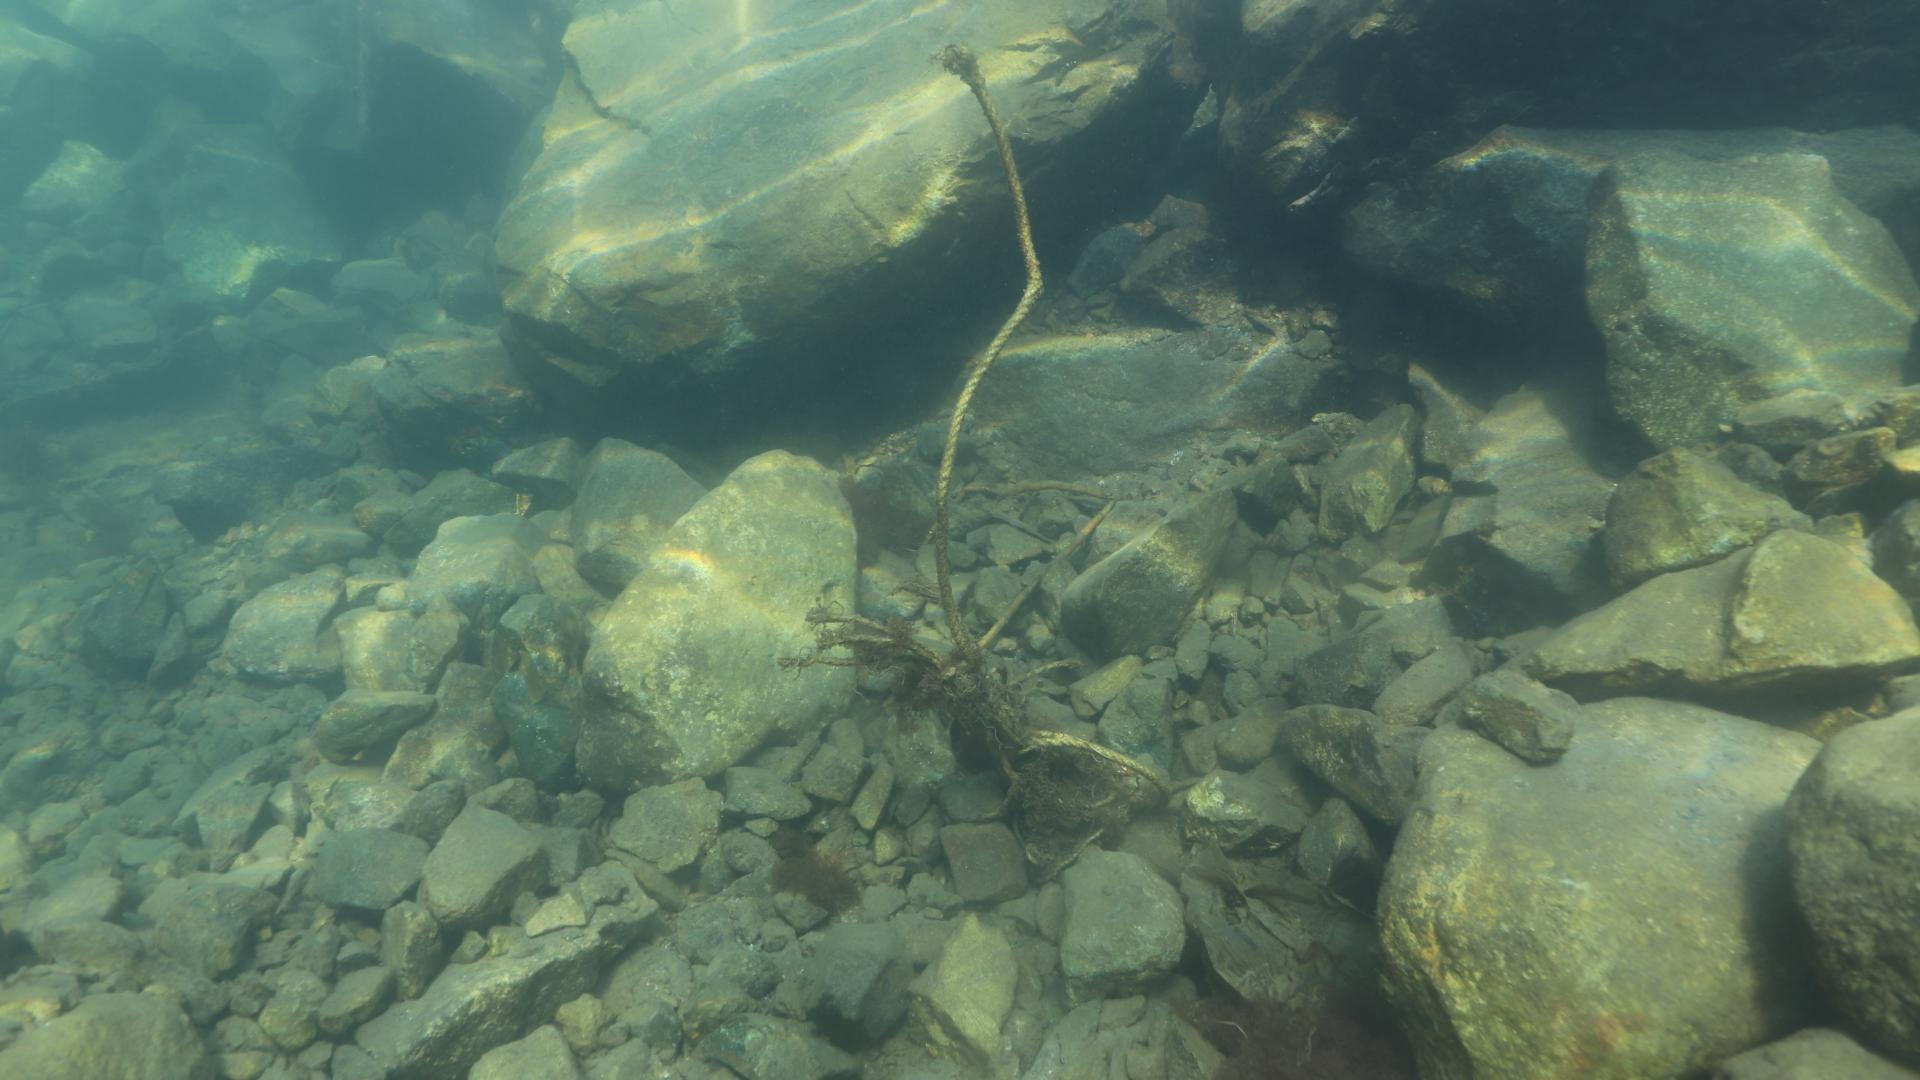bundle of ropes: (814, 82, 1174, 800)
